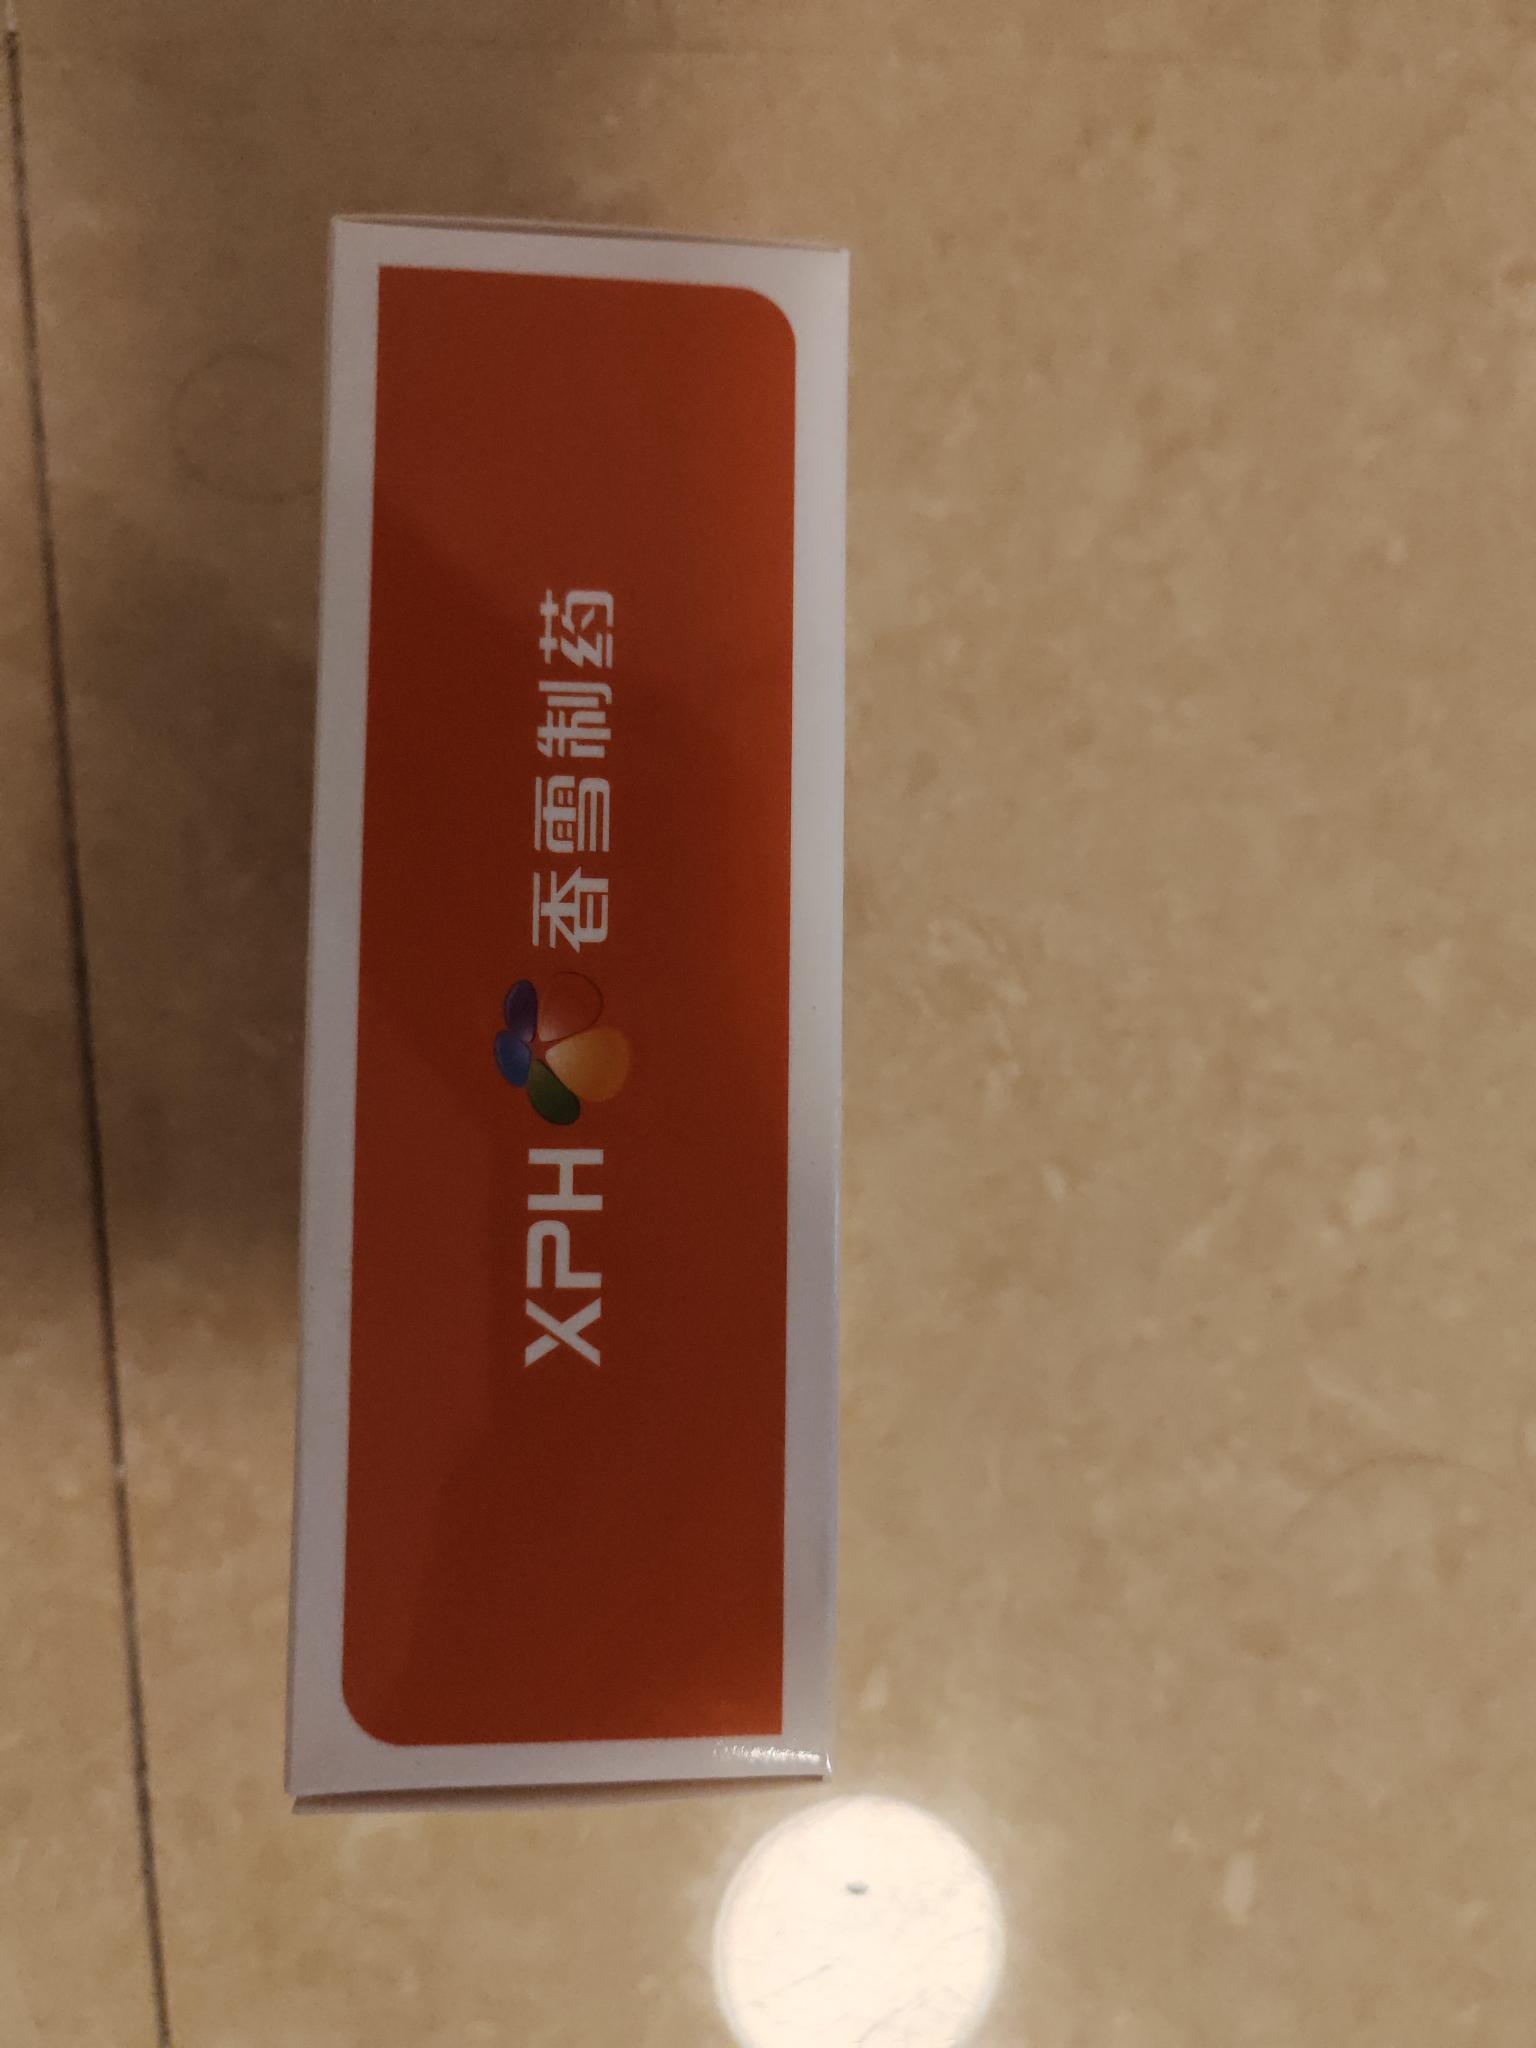Medicine1: (260, 181, 862, 1817)
